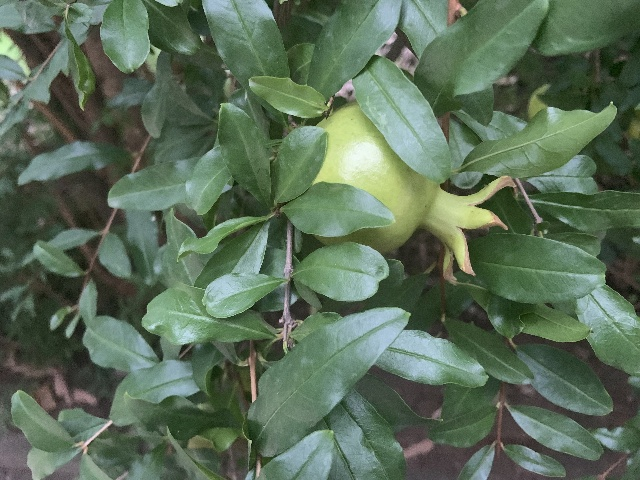mid-growth: (310, 103, 515, 285)
